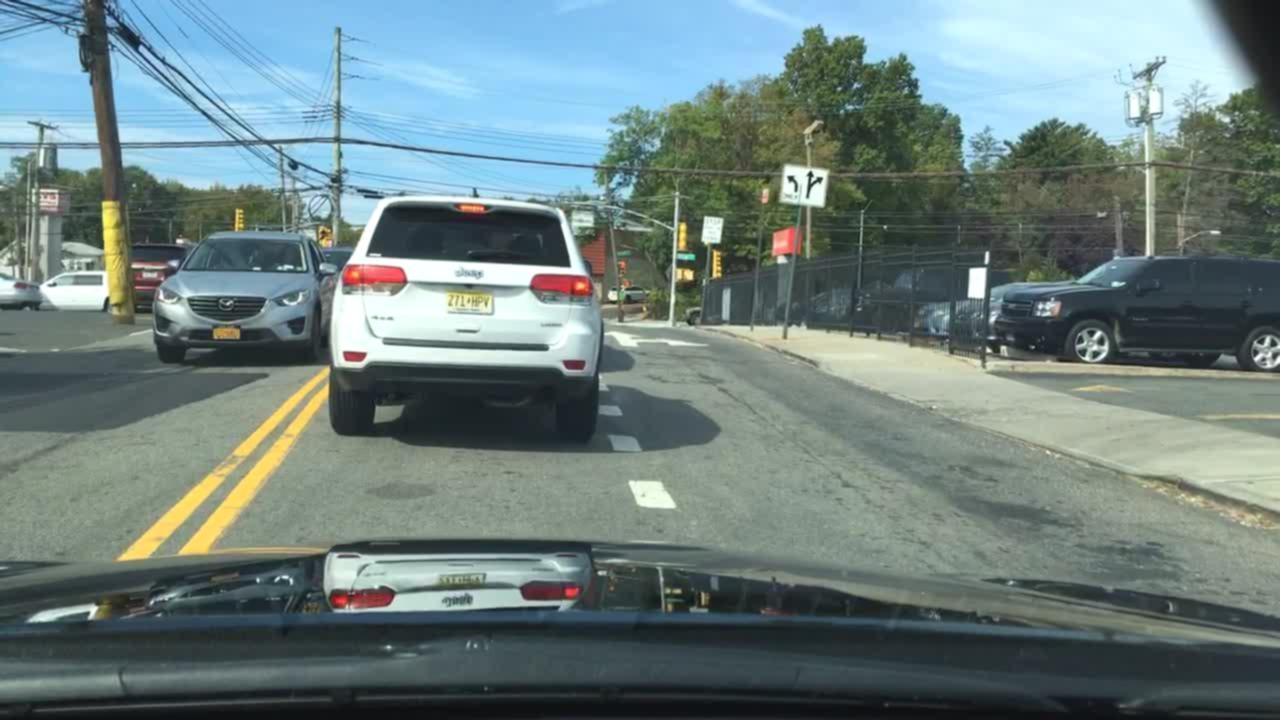Mazda: (211, 292, 239, 316)
jeep: (448, 264, 490, 281)
